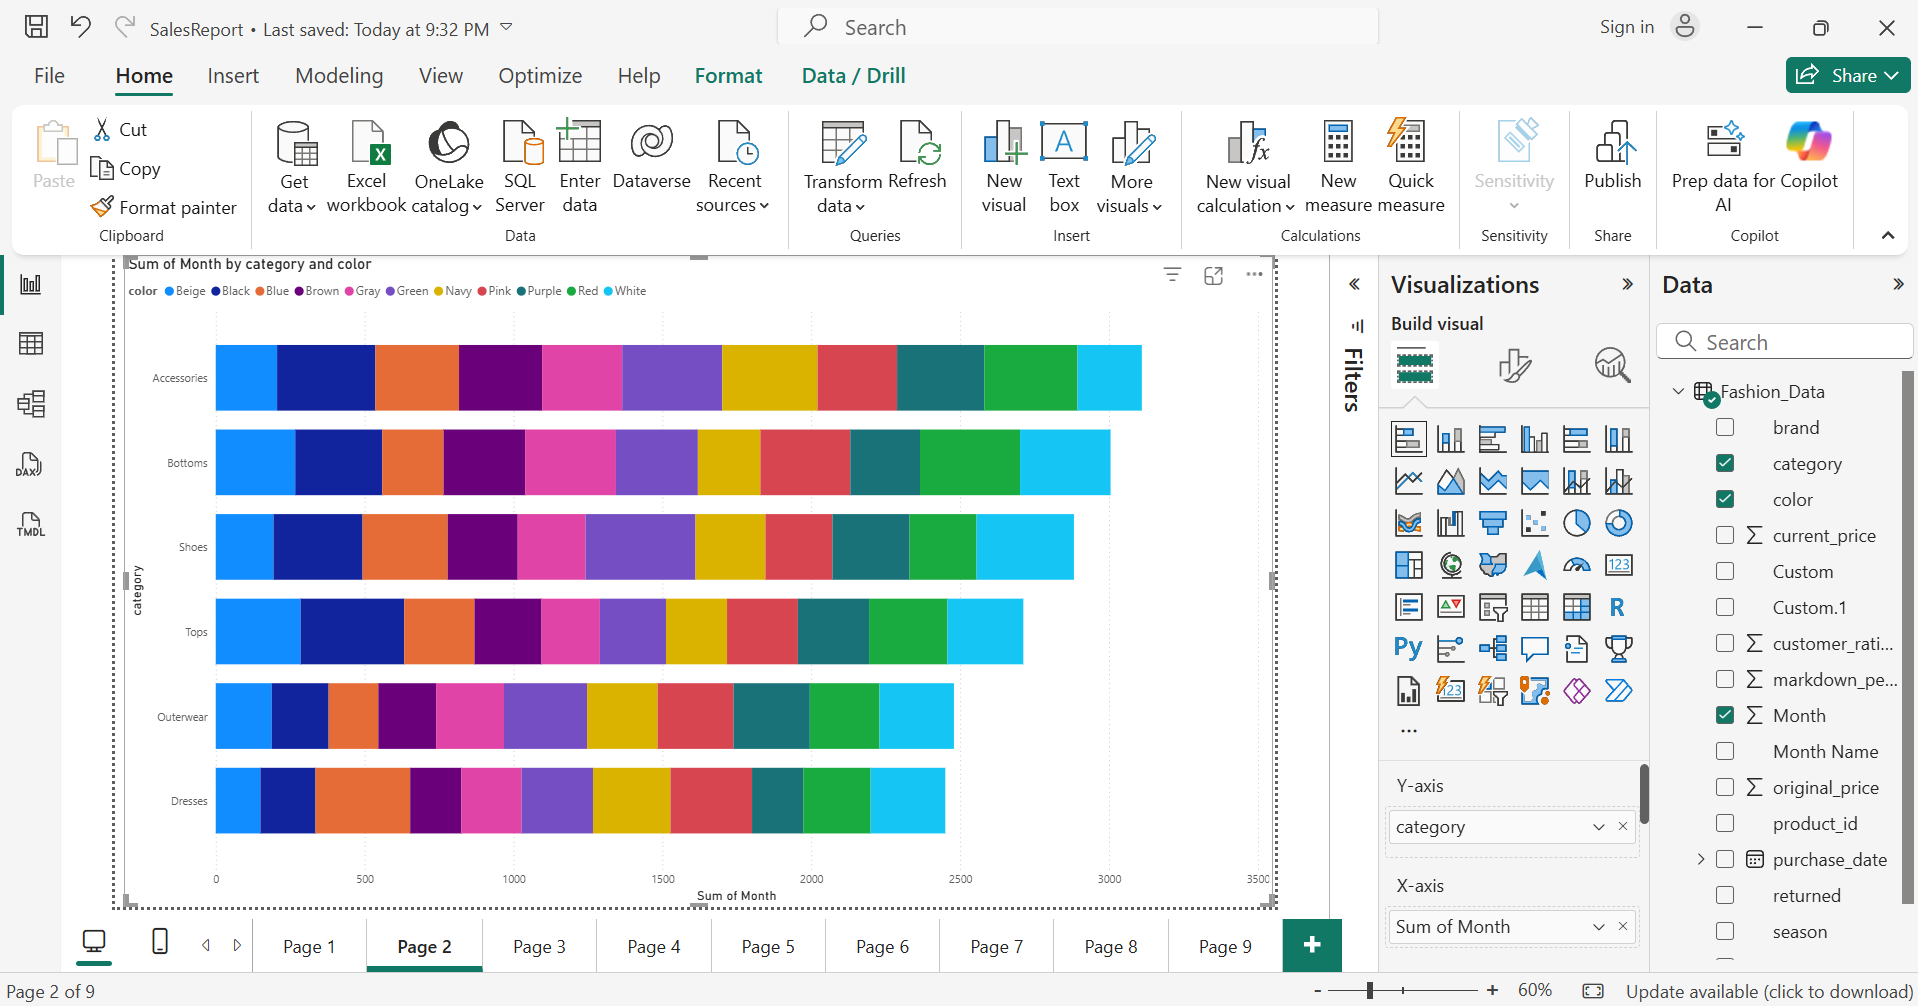

This screenshot's page, from the dashboard's own definition file:
{"tool":"powerbi","page":{"name":"Page 2","canvas":[1280,720],"ordinal":1},"visuals":[{"type":"barChart","fields":{"Y":["Sum(Fashion_Data.Month)"],"Category":["Fashion_Data.category"],"Series":["Fashion_Data.color"]},"box":[9.4,0,1269.9,720],"z":0}]}

Visuals, with their boxes on the page's 1280x720 design canvas (x1, y1, x2, y2). These are canvas units, not pixel positions in the 1918x1006 screenshot, which may show the page scaled, cropped or inside an application window:
barChart - Sum(Fashion_Data.Month) x Fashion_Data.category: 9,0,1279,720
